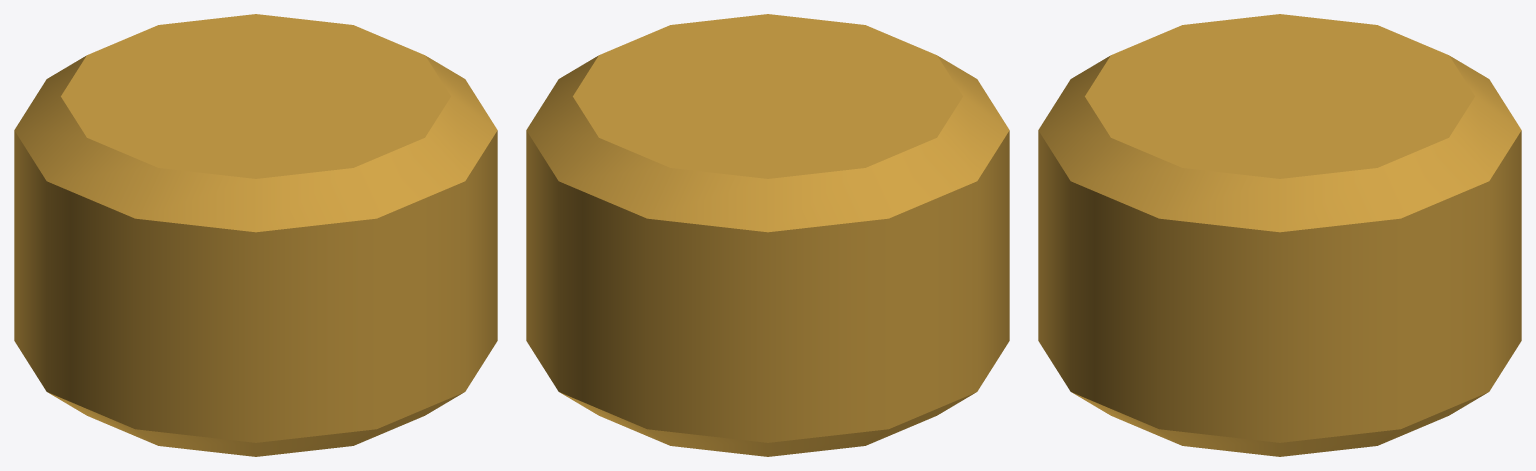
The picture shows the model from 3 angles, left to right: view 1: azimuth 30°, elevation 25°; view 2: azimuth 150°, elevation 25°; view 3: azimuth 270°, elevation 25°; orthographic projection.
Visible parts, largest first — view 1: pa100_rx; view 2: pa100_rx; view 3: pa100_rx.
Part boxes in pixels (x1,y1,x2,y2): pa100_rx: (14,14,497,456); pa100_rx: (526,14,1009,456); pa100_rx: (1038,14,1521,456).
Size of the model in its own units: 1.04 by 0.66 by 1.04.
